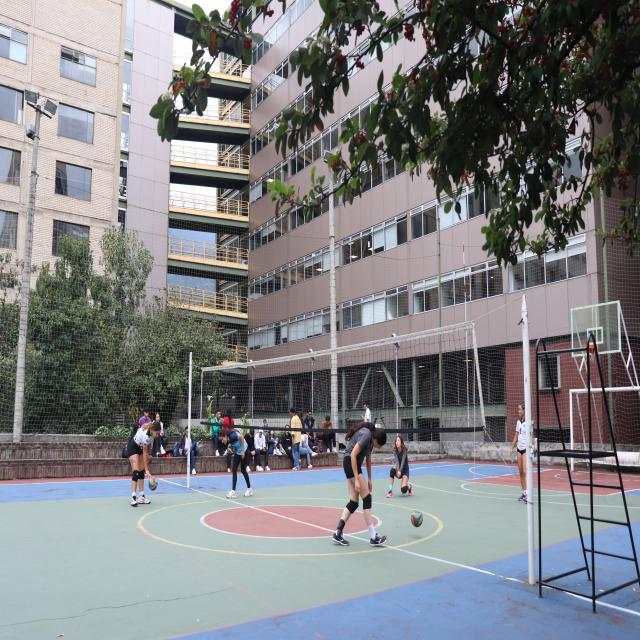volleyball: (410, 509, 423, 527), (148, 476, 158, 491), (228, 444, 236, 454)
